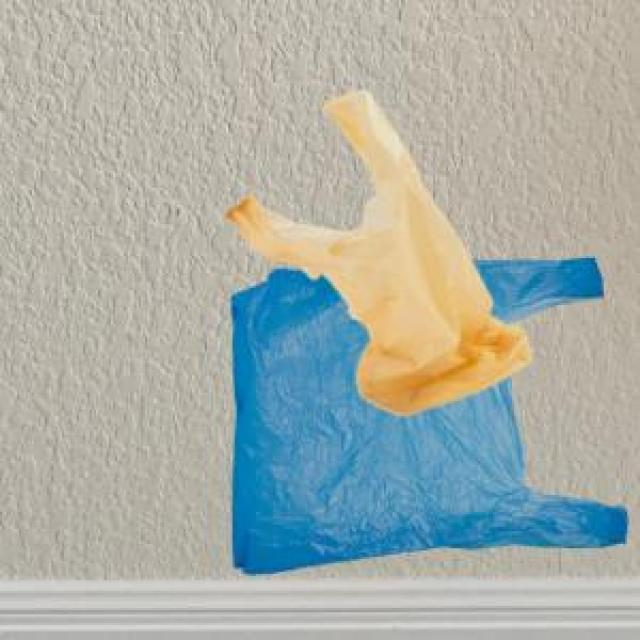waste: (226, 91, 628, 572)
